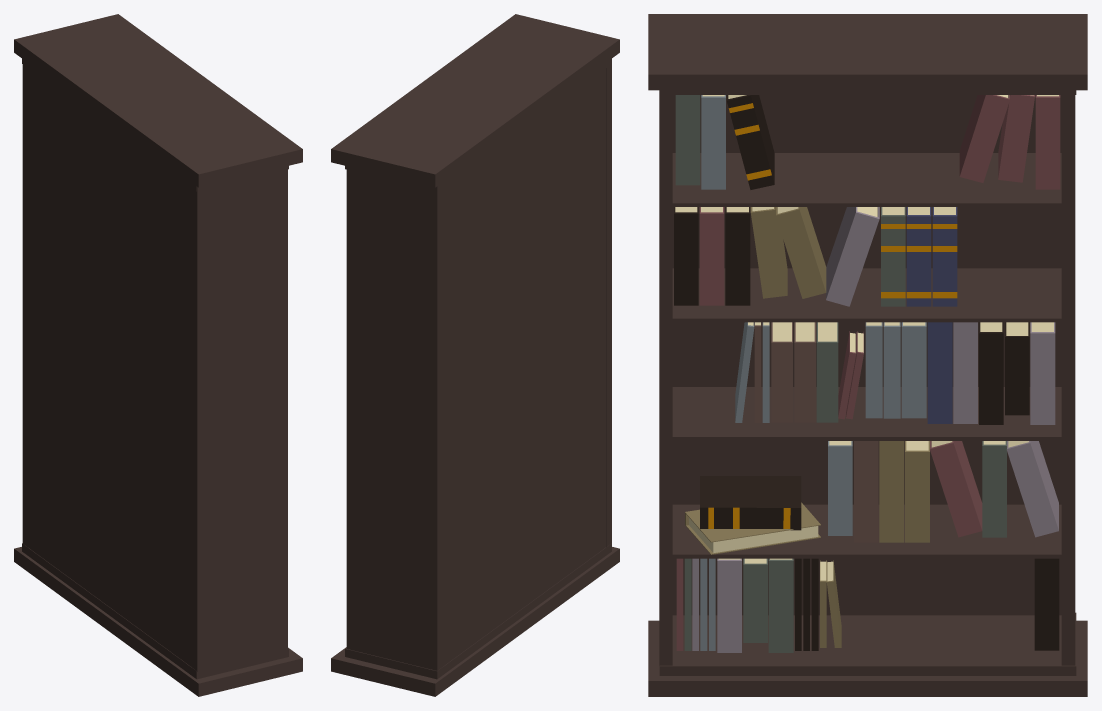
File: SmallBookshelfArrangement2.fbx
3 renders of one model, left to right at view 1: azimuth 30°, elevation 25°; view 2: azimuth 150°, elevation 25°; view 3: azimuth 270°, elevation 25°, orthographic. The views are drawn at different scales.
Visible parts, largest first — view 1: Cube, Cube.002, Cube.001, Cube.065, Cube.003, Cube.004, Cube.008; view 2: Cube, Cube.003, Cube.001, Cube.065, Cube.002, Cube.004, Cube.008; view 3: Cube, Cube.001, Cube.004, Cube.056, Cube.007, Cube.006, Cube.065, Cube.005, Cube.003, Cube.002, Cube.020, Cube.021 (+48 smaller).
Part boxes in pixels (box(x1,y1,x2,y2)): Cube: box(28, 68, 191, 666); Cube.002: box(191, 166, 287, 671); Cube.001: box(14, 14, 302, 187); Cube.065: box(14, 547, 302, 696); Cube.003: box(22, 64, 28, 547); Cube.004: box(22, 543, 288, 679); Cube.008: box(22, 59, 288, 191); Cube: box(443, 68, 605, 666); Cube.003: box(346, 169, 442, 670); Cube.001: box(331, 14, 619, 187); Cube.065: box(331, 547, 619, 696); Cube.002: box(606, 64, 611, 547); Cube.004: box(345, 543, 611, 679); Cube.008: box(345, 59, 611, 191); Cube: box(672, 95, 1061, 615); Cube.001: box(648, 14, 1087, 90); Cube.004: box(659, 612, 1076, 675); Cube.056: box(672, 153, 1061, 206); Cube.007: box(672, 268, 1061, 322); Cube.006: box(672, 387, 1061, 440); Cube.065: box(648, 620, 1087, 696); Cube.005: box(672, 504, 1061, 558); Cube.003: box(1061, 95, 1075, 665); Cube.002: box(659, 90, 672, 665); Cube.020: box(700, 476, 801, 530); Cube.021: box(826, 207, 879, 306).
Bounding box in the file's own units: 102 × 491 × 314.
